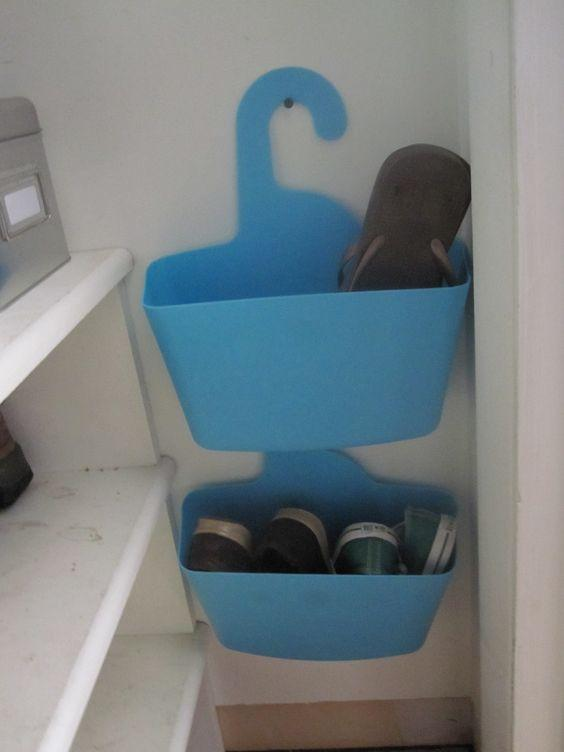HDPE: (142, 65, 471, 452), (177, 451, 460, 662)
